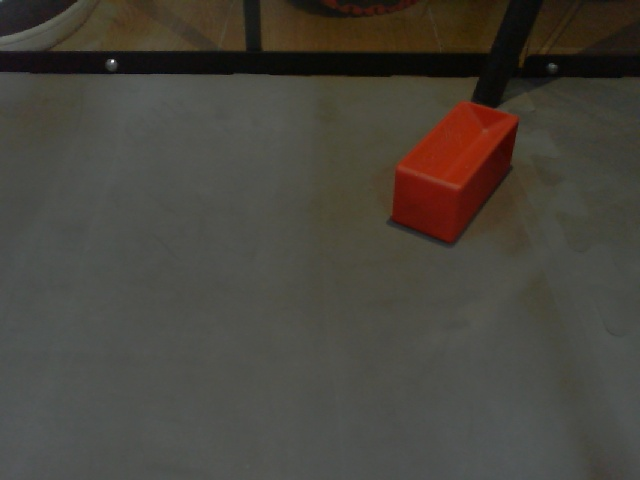RedSample: (386, 99, 523, 256)
